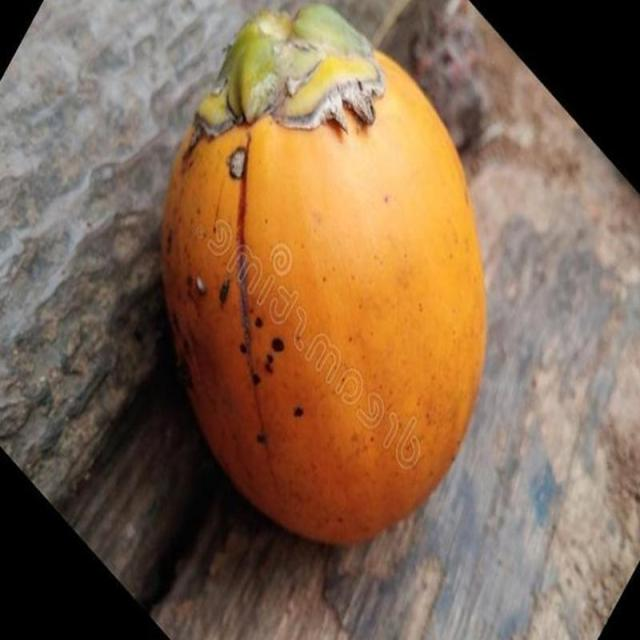good: (159, 6, 488, 549)
